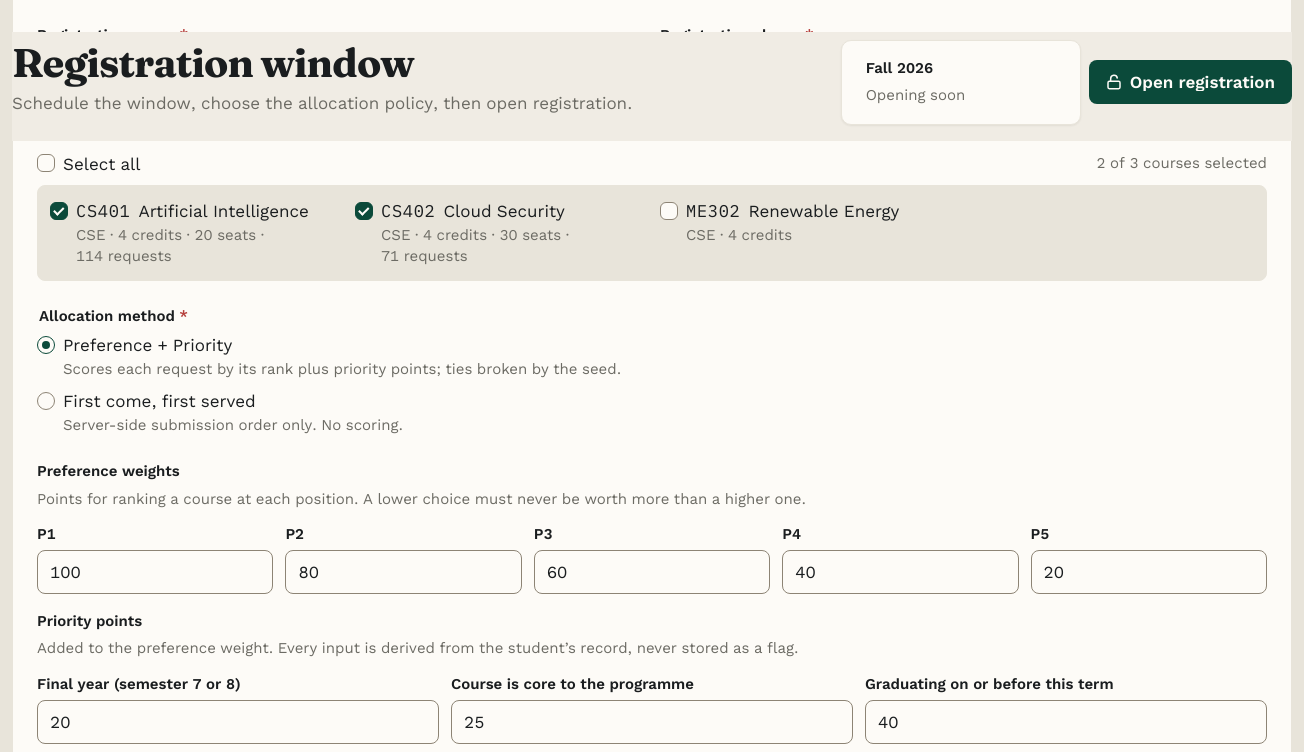
RegistrationWindowPage › swaps the settings when the method changes, and swaps them back
The image size is (1304, 752).
(page scrolled)
Click the radio button labelled "First come, first served": coordinates (46, 401) [37, 392, 55, 410]
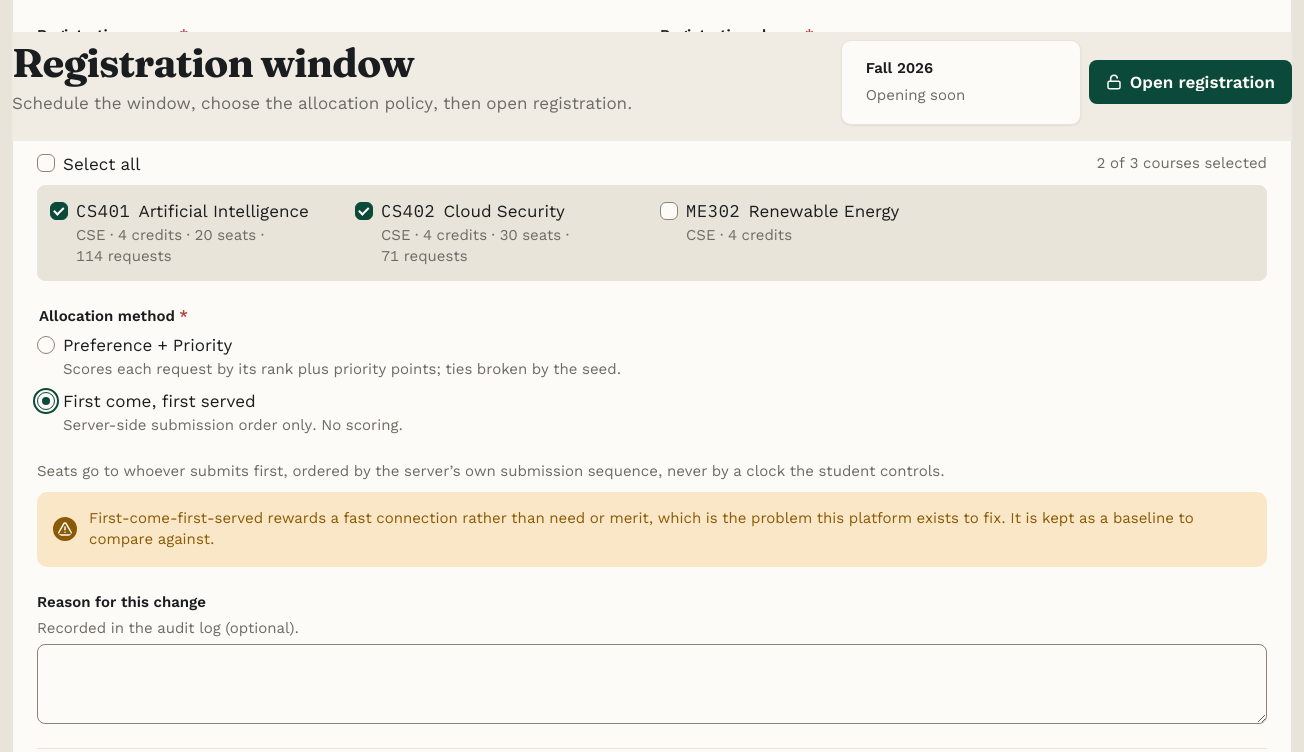
Expected: the label labelled "P1" is gone
Expected: the text "rewards a fast connection" is shown, [89, 509, 1194, 548]
Click the radio button labelled "Preference + Priority": coordinates (46, 345) [37, 336, 55, 354]
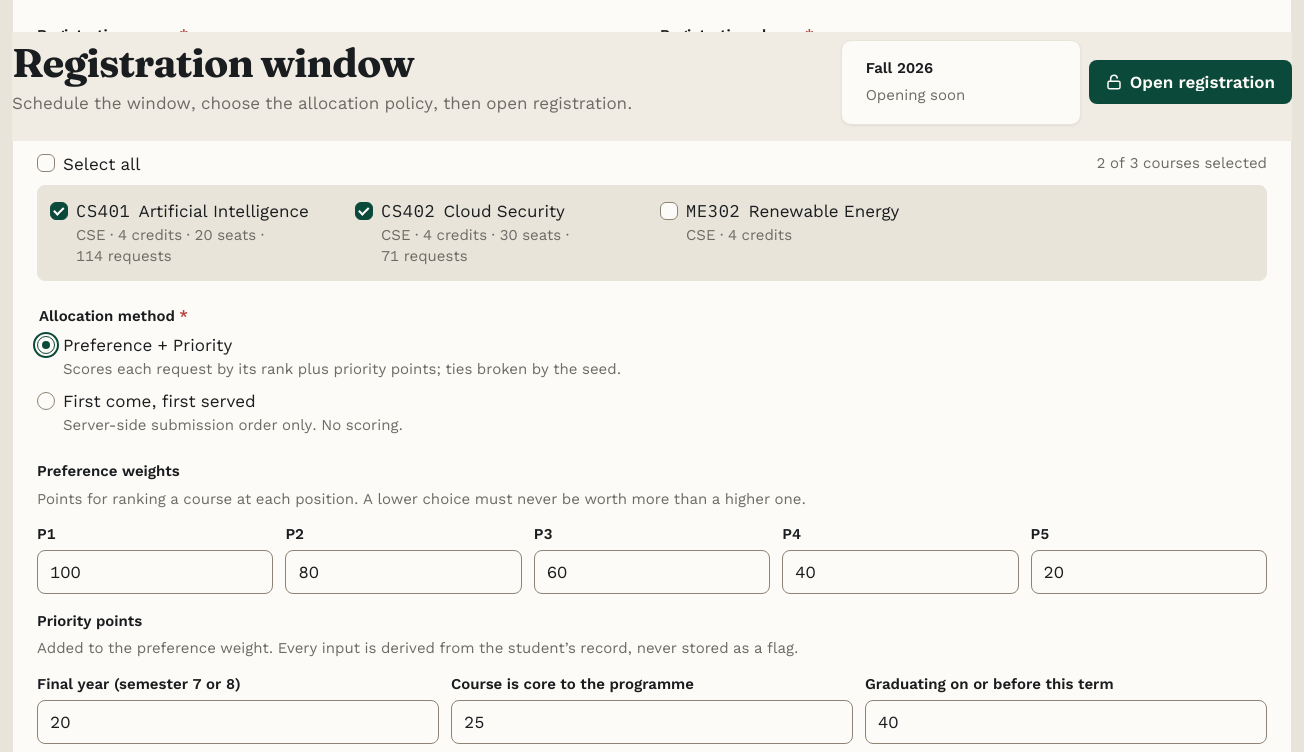
Expected: the number field labelled "P1" holds "100", [37, 550, 273, 594]
Expected: the text "rewards a fast connection" is gone
